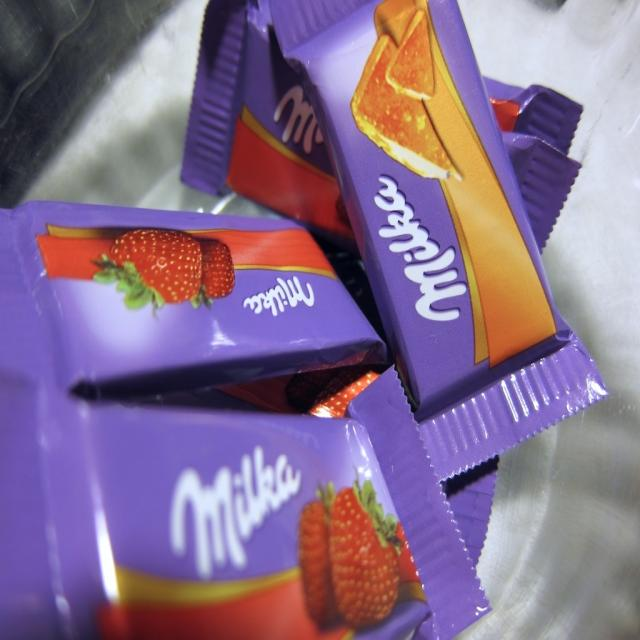milka: (166, 441, 310, 581), (372, 174, 471, 330), (242, 273, 317, 323)
